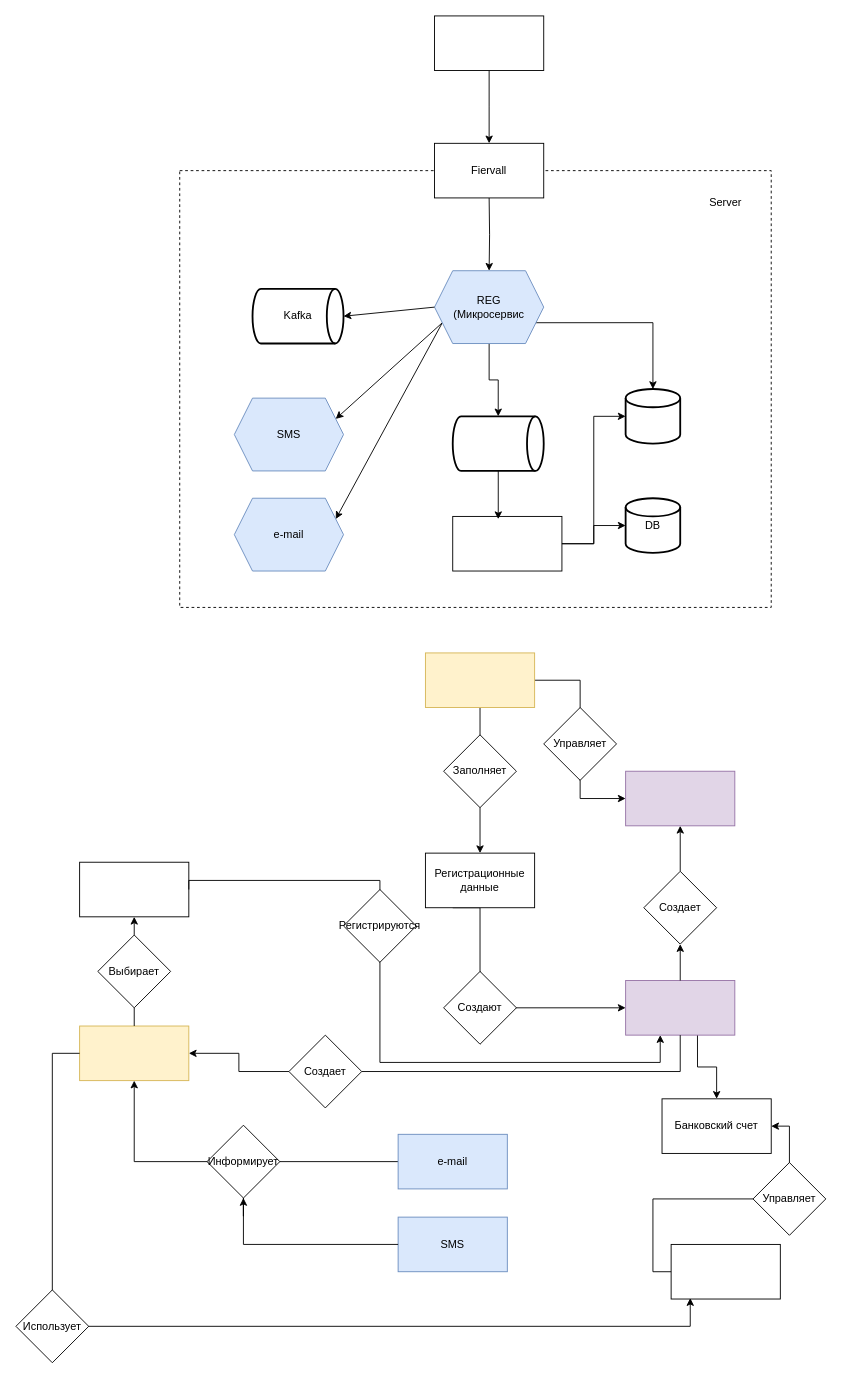
Some shapes in this 842 by 1379 pixel diagram are drawn without their labels. The shapes that lost their labels are listed below. From the top down, each one's centre as x and y in pixels, then its label:
the point at 489,43: App
the point at 652,416: Redis
the point at 497,443: ESB
the point at 507,543: CRM
the point at 480,680: Пользователь
the point at 680,798: Учетная запись
the point at 134,889: ПБУ (пакет банковский услуг)
the point at 680,1007: Банковский аккаунт (в CRM)
the point at 134,1053: Клиент
the point at 725,1271: Карта
